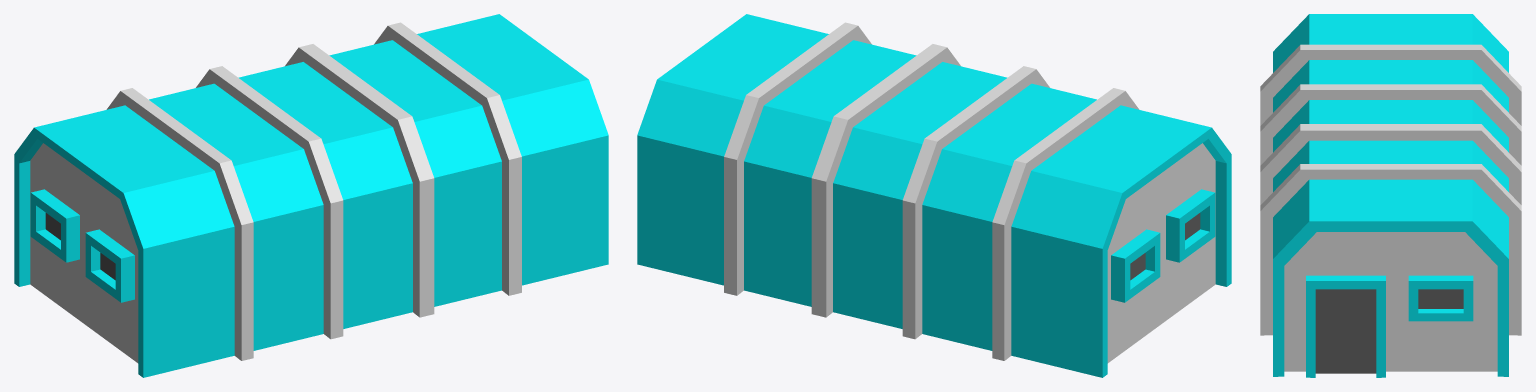
Rendered from Warehouse.fbx.
3 views of the same model, side by side, from view 1: azimuth 30°, elevation 25°; view 2: azimuth 150°, elevation 25°; view 3: azimuth 270°, elevation 25° (orthographic). The views are drawn at different scales.
Visible parts, largest first — view 1: Cube, Cube.001, Cube.004; view 2: Cube, Cube.001, Cube.004; view 3: Cube, Cube.002, Cube.003.
Part boxes in pixels (bbox=[...]): Cube: bbox=[14, 14, 608, 377]; Cube.001: bbox=[30, 189, 79, 262]; Cube.004: bbox=[85, 229, 134, 302]; Cube: bbox=[637, 14, 1231, 377]; Cube.001: bbox=[1111, 229, 1160, 302]; Cube.004: bbox=[1166, 189, 1215, 262]; Cube: bbox=[1260, 14, 1521, 376]; Cube.002: bbox=[1306, 275, 1385, 377]; Cube.003: bbox=[1408, 275, 1473, 321].
Bounding box in the file's own units: 267 × 98.7 × 141.
